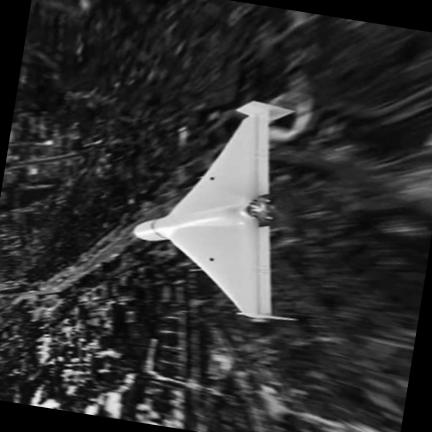Shahed: (132, 100, 297, 320)
